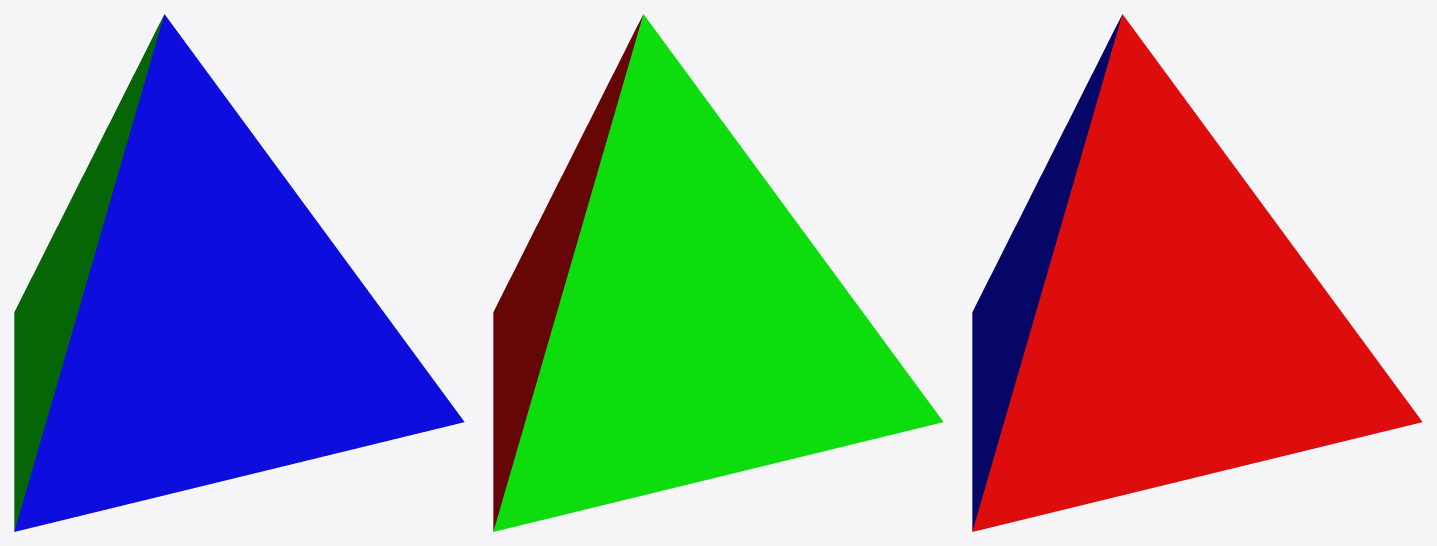
The model's file is ColoredConeModel_Raw.fbx.
3 views of the same model, side by side, from view 1: azimuth 30°, elevation 25°; view 2: azimuth 150°, elevation 25°; view 3: azimuth 270°, elevation 25° (orthographic).
Parts seen in each view (by area): view 1: Cone; view 2: Cone; view 3: Cone.
Part boxes in pixels (bbox=[...]): Cone: bbox=[14, 14, 464, 531]; Cone: bbox=[493, 14, 943, 531]; Cone: bbox=[972, 14, 1422, 531].
Bounding box in the file's own units: 173 × 150 × 150.
